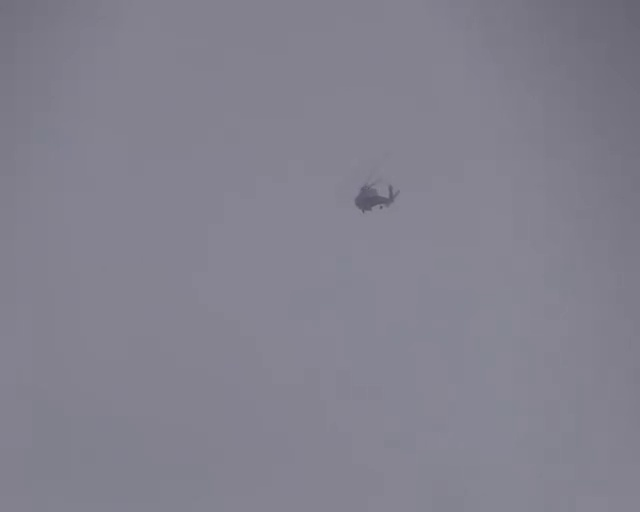HELICOPTER: (353, 177, 401, 214)
